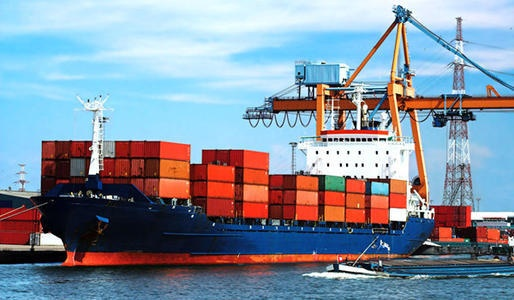Cargoship: (45, 88, 432, 271)
otherboat: (315, 240, 514, 280)
